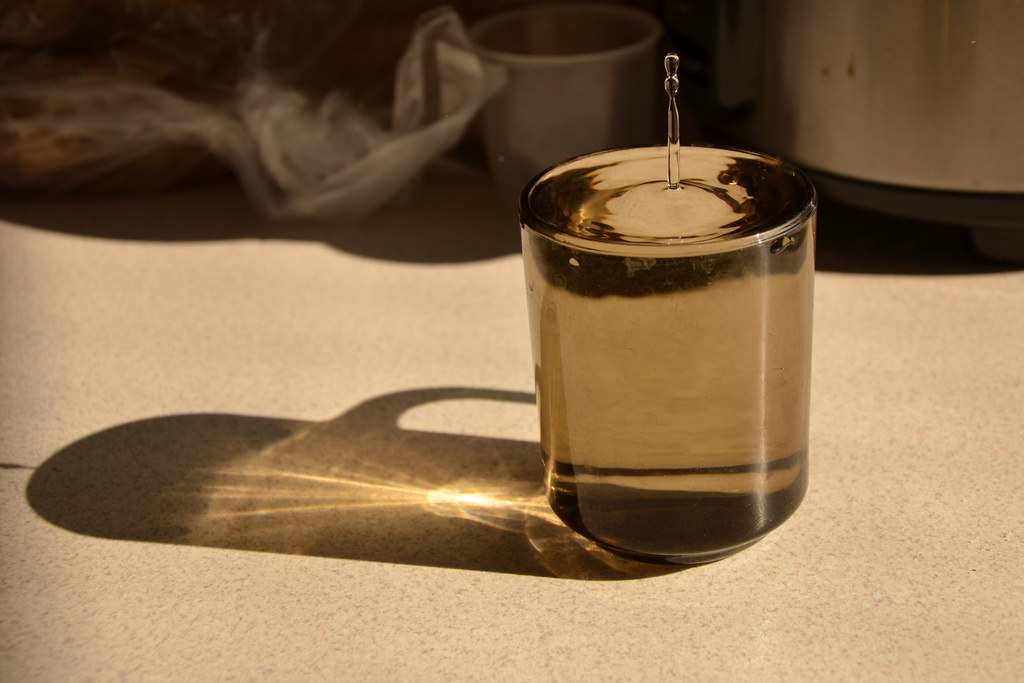glass of water: (513, 138, 838, 572)
